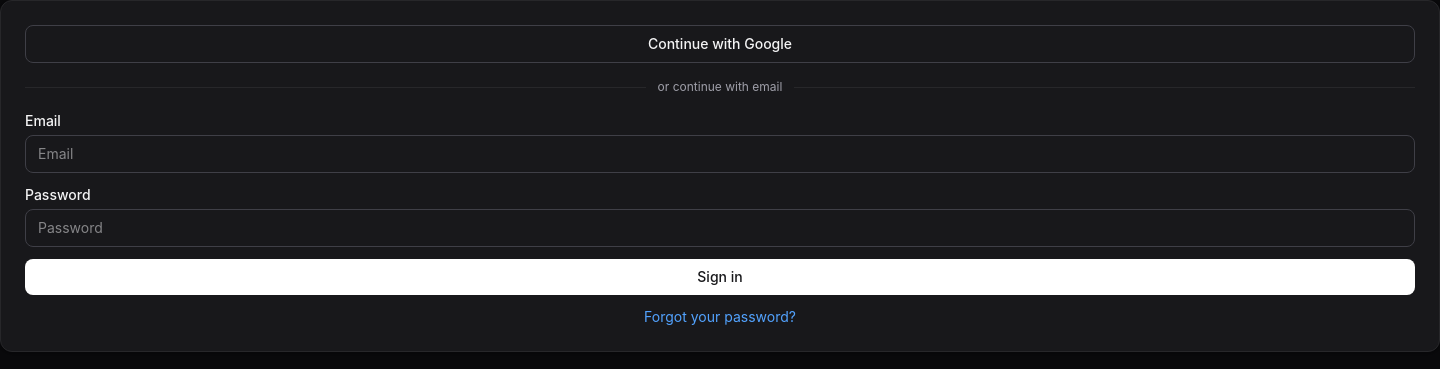
Scenario: LoginForm › does nothing extra on Google sign-in success (better-auth redirects)
Click the button "Continue with Google" at (720, 44), box [25, 25, 1415, 63]
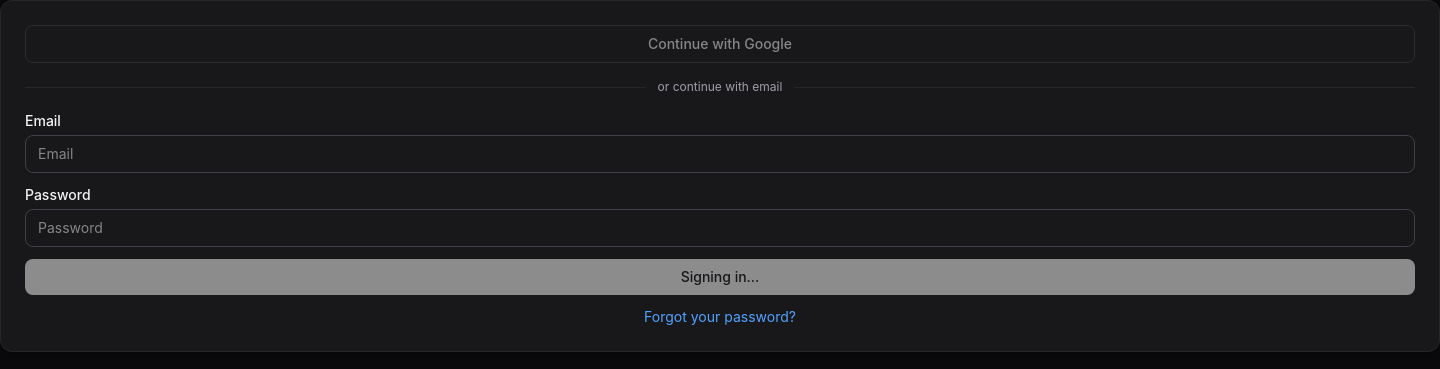
Check: the button "Continue with Google" is disabled, box [25, 25, 1415, 63]
